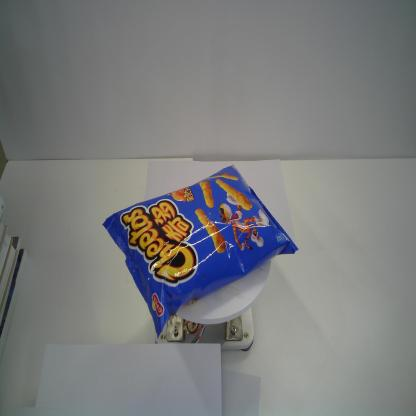Puffed Food: (102, 162, 298, 338)
